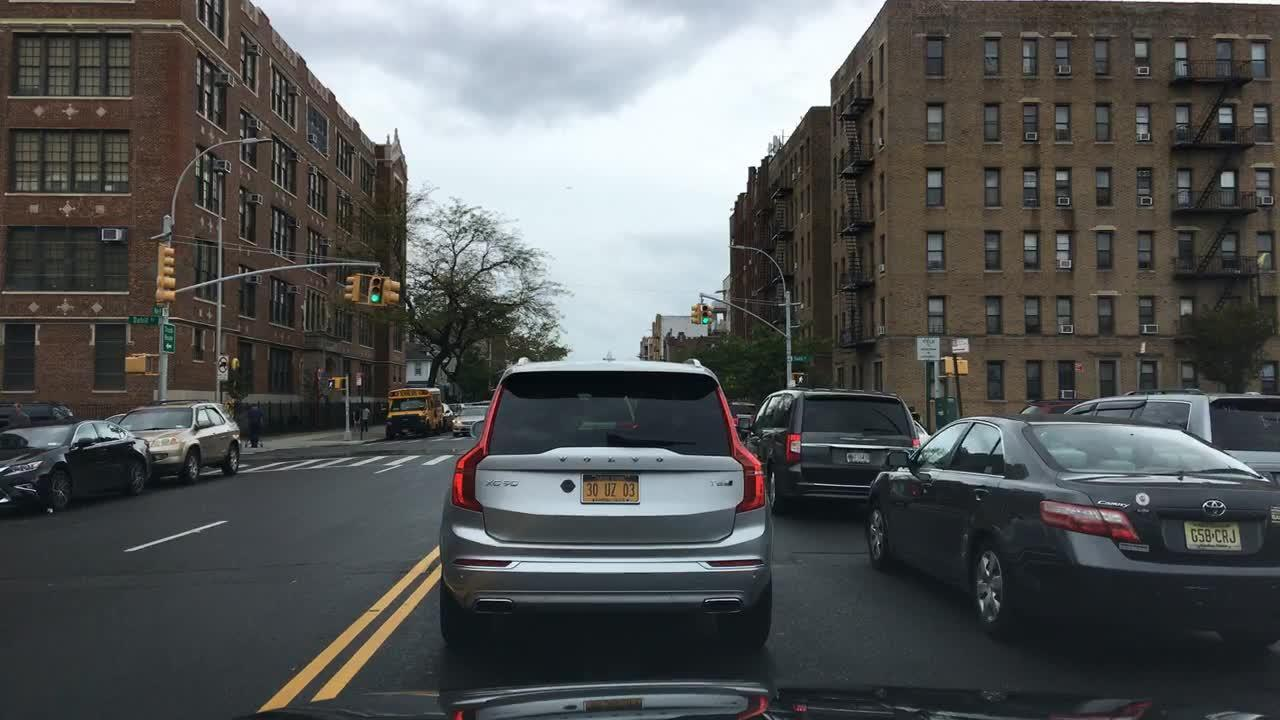volvo: (553, 452, 671, 467)
